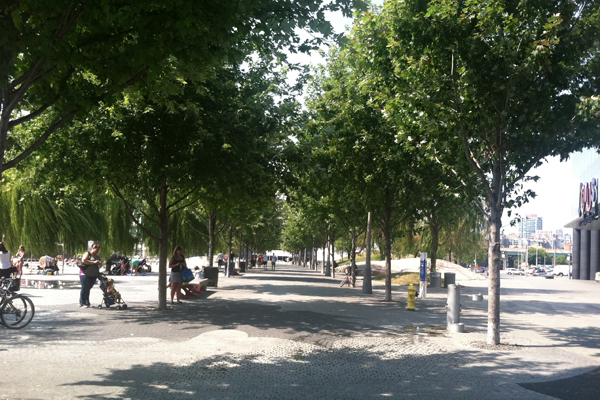tree: (333, 2, 600, 357)
